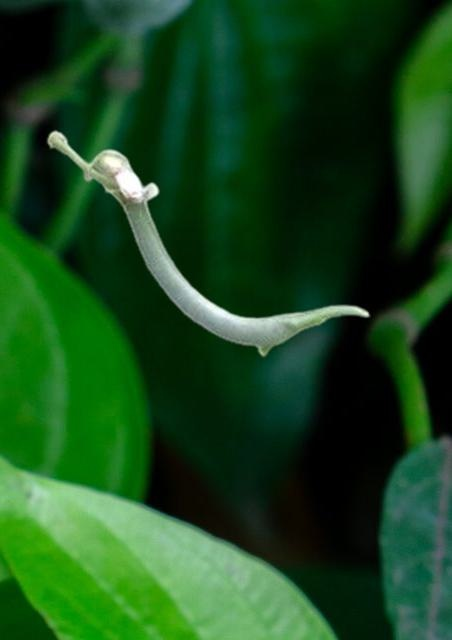french_bean: (46, 129, 369, 356)
